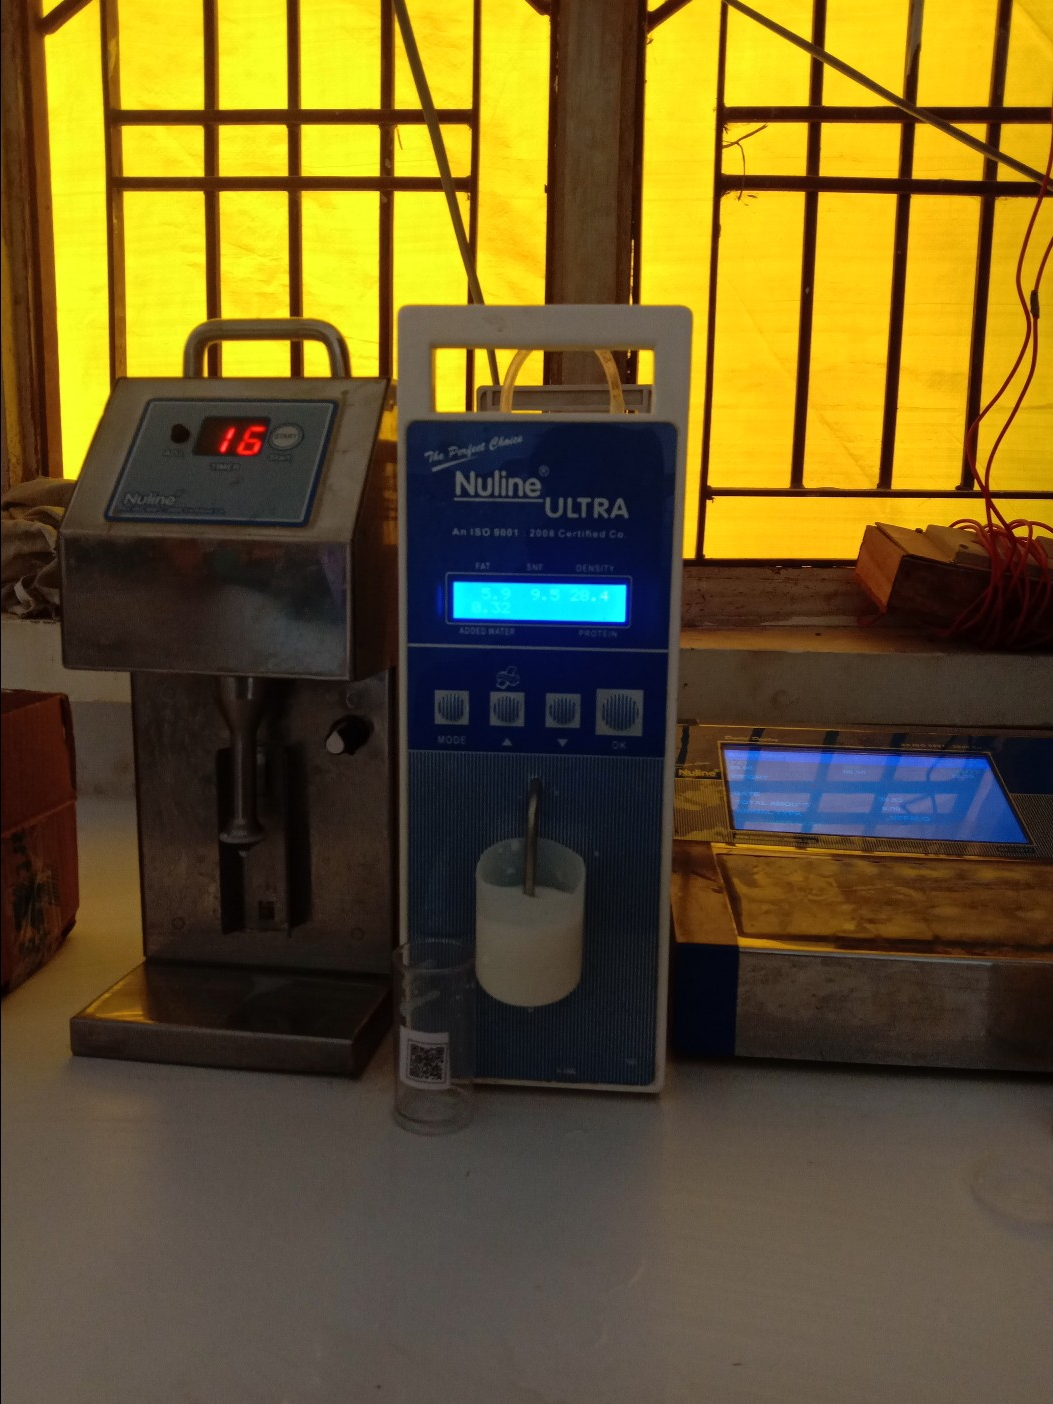lcd: (440, 569, 634, 625)
qr: (395, 1031, 459, 1091)
